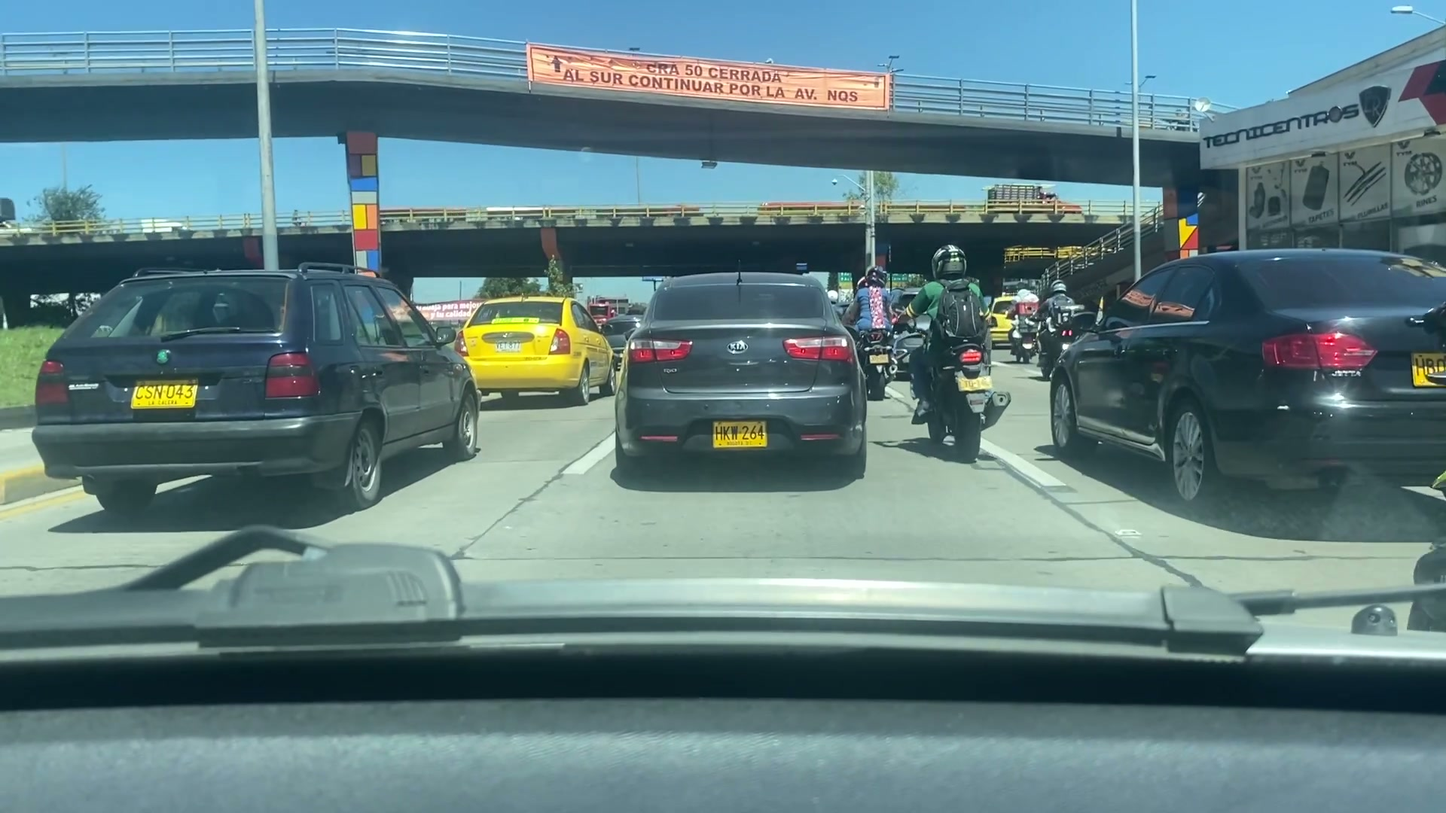car: (31, 268, 484, 508), (1048, 248, 1446, 509), (612, 271, 869, 479), (455, 290, 613, 404)
motorcycle: (906, 342, 1012, 470), (853, 320, 906, 408), (1039, 317, 1087, 380), (1007, 327, 1041, 363)
person: (916, 242, 1003, 424), (851, 263, 901, 363)
